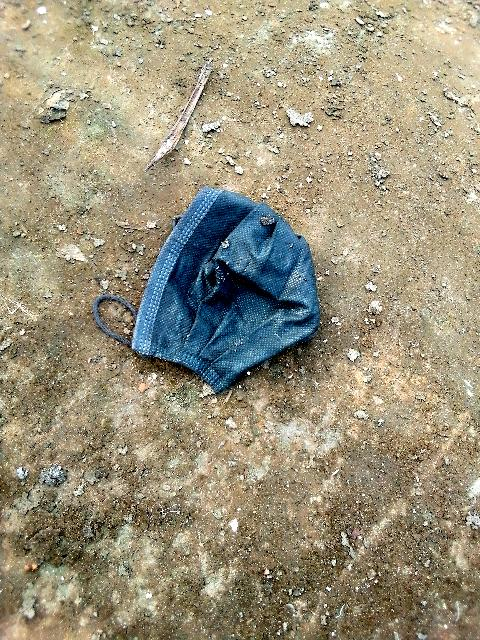mask: (135, 197, 330, 392)
